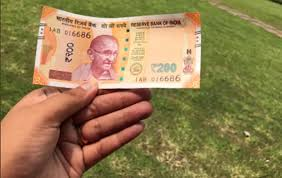twoHundred: (49, 21, 187, 79)
